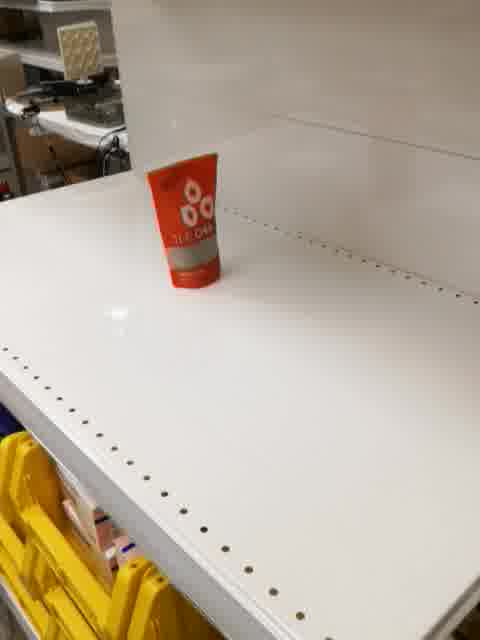whitechia: (146, 153, 223, 291)
